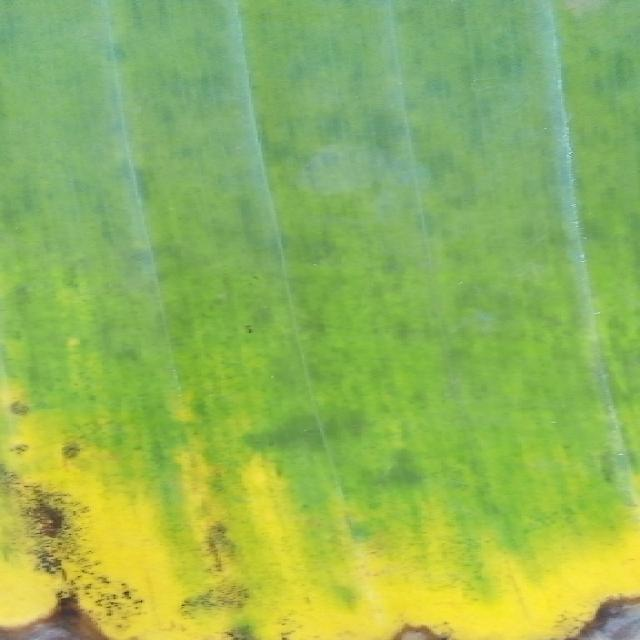Cordana: (0, 252, 640, 640)
